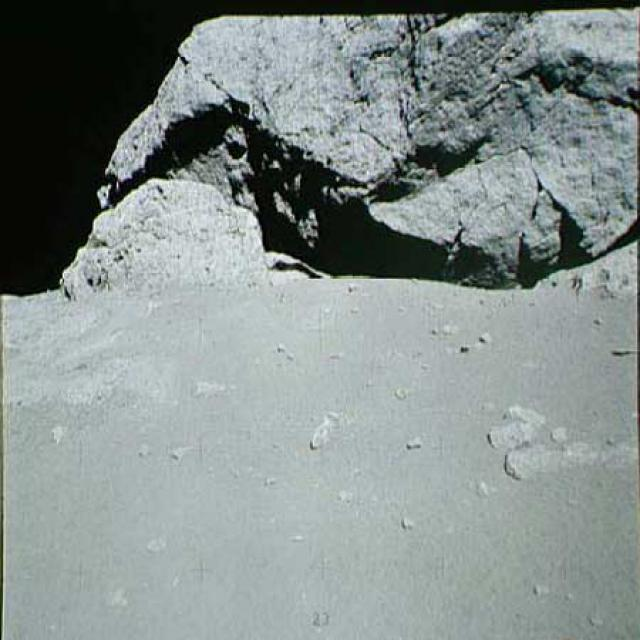rock: (58, 0, 639, 309), (499, 444, 597, 480), (484, 395, 548, 449), (302, 404, 350, 451)
